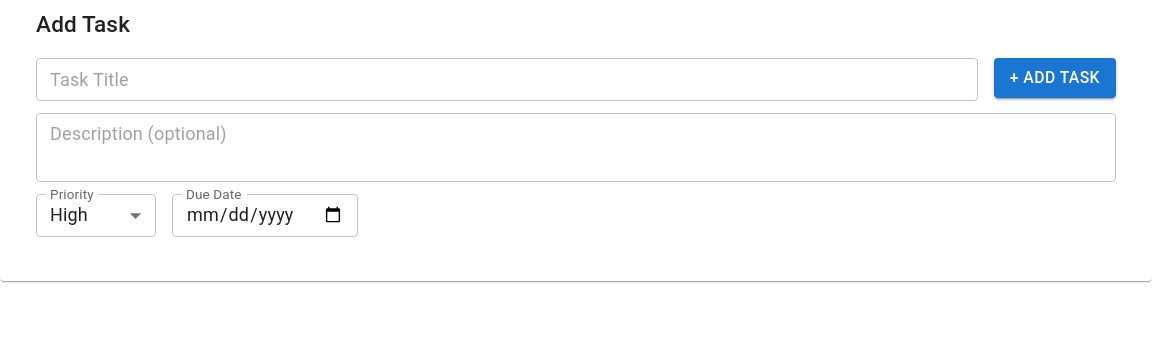
Test case: AddTask - rendering › shows validation errors when submitting empty form
This screenshot has width=1152, height=353.
Click the button "+ Add Task" at (1055, 78), box [994,58,1116,98]
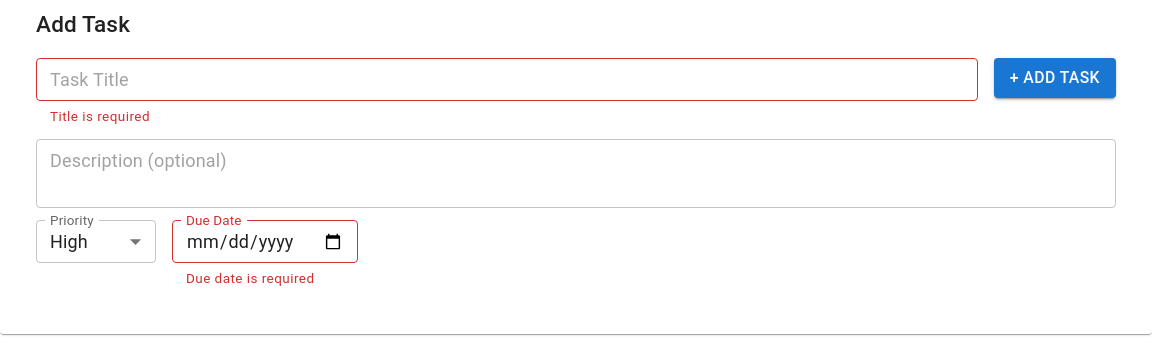
Expected: the text "Title is required" is shown, [50,108,150,124]
Expected: the text "Due date is required" is shown, [186,270,314,286]
